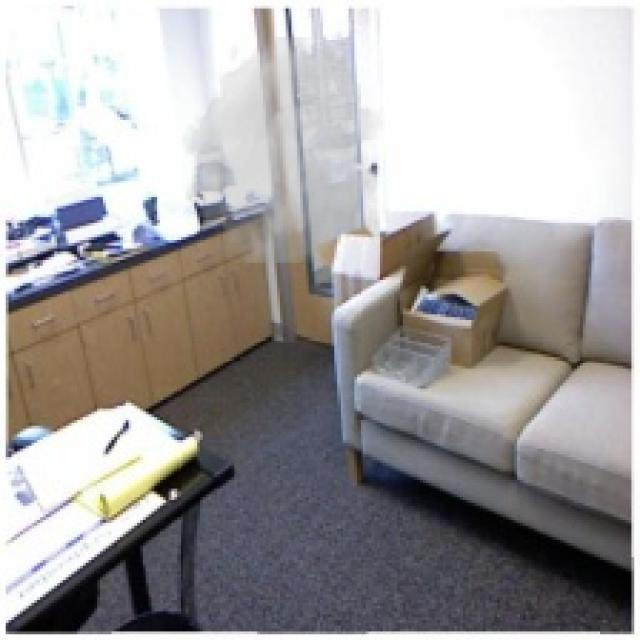Smoke: (180, 37, 383, 263)
